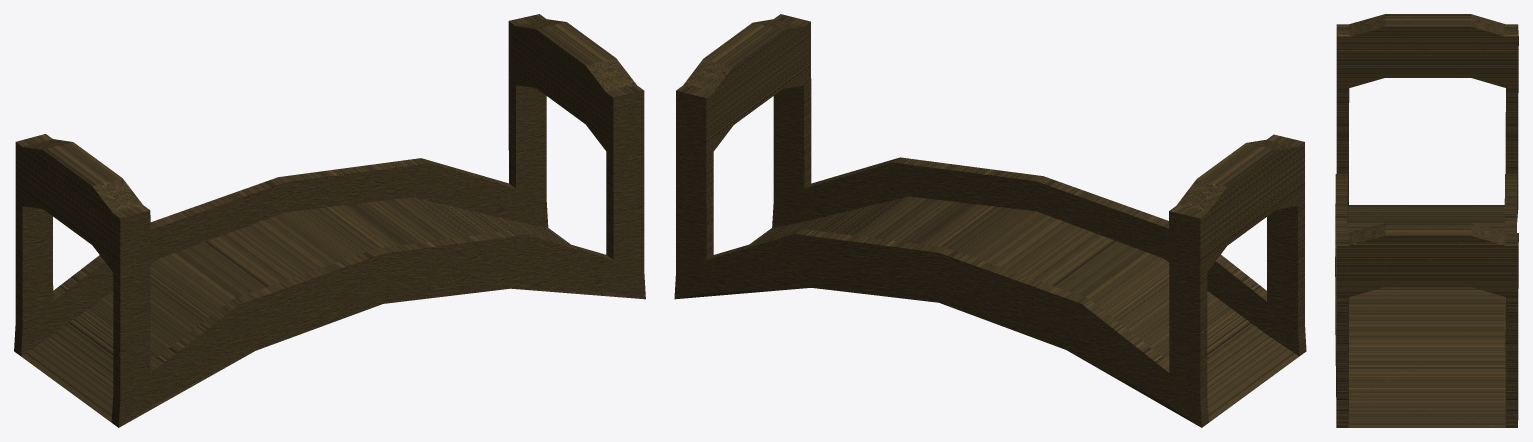
The model's file is bridge 1.fbx.
3 renders of one model, left to right at view 1: azimuth 30°, elevation 25°; view 2: azimuth 150°, elevation 25°; view 3: azimuth 270°, elevation 25°, orthographic. The views are drawn at different scales.
Parts seen in each view (by area): view 1: bridge1; view 2: bridge1; view 3: bridge1.
Part boxes in pixels (x1,y1,x2,y2): bridge1: [14, 14, 645, 427]; bridge1: [674, 14, 1306, 427]; bridge1: [1335, 14, 1518, 427].
Bounding box in the file's own units: 24.5 × 9.82 × 8.53.
